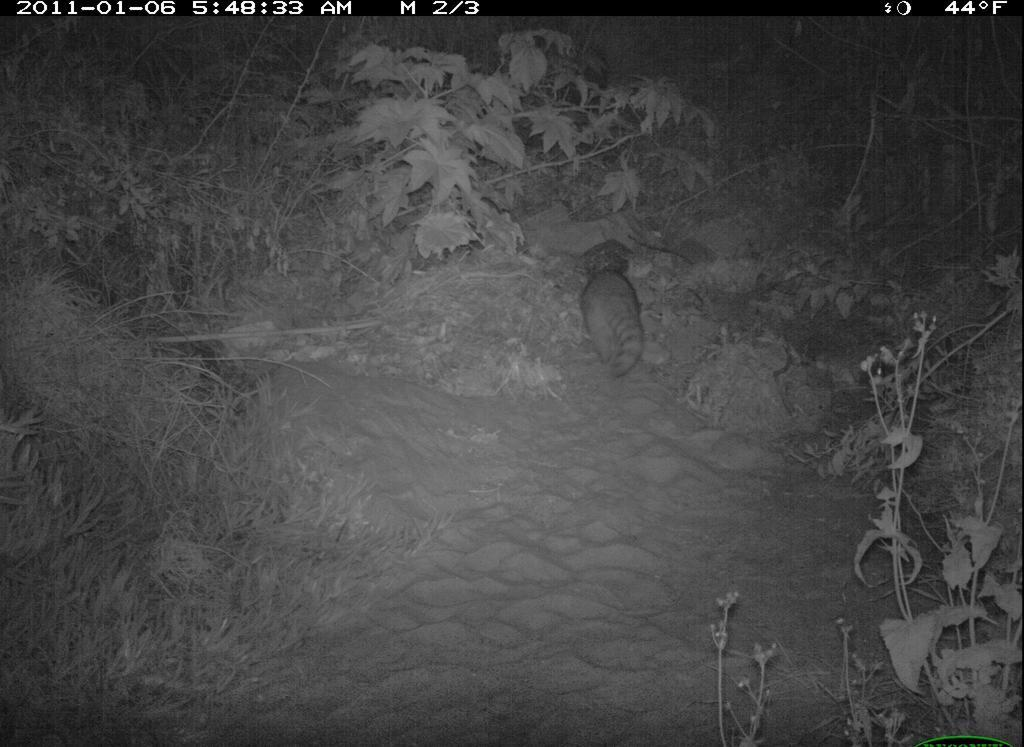raccoon: (575, 245, 652, 390)
